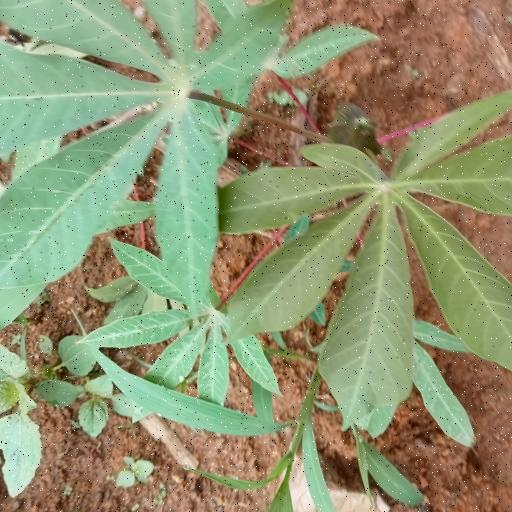Cassava_Mosaic: (233, 92, 512, 415)
